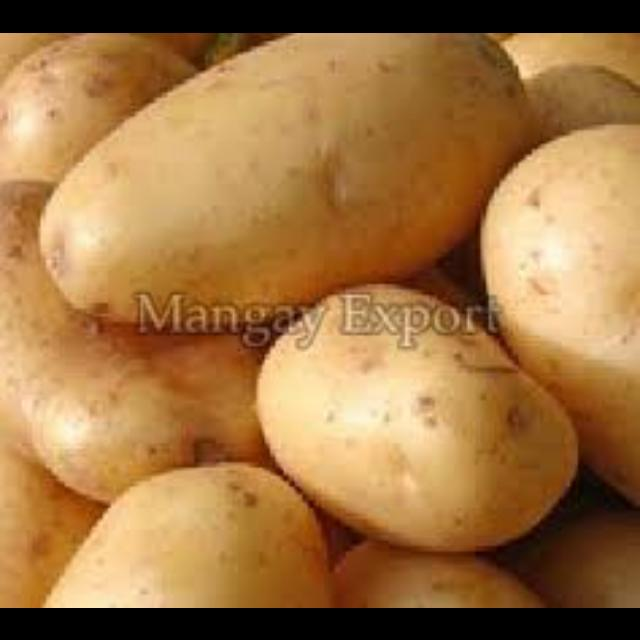Potato: (35, 32, 517, 308), (0, 173, 278, 492), (258, 274, 576, 552), (470, 118, 640, 520), (21, 456, 342, 604)
